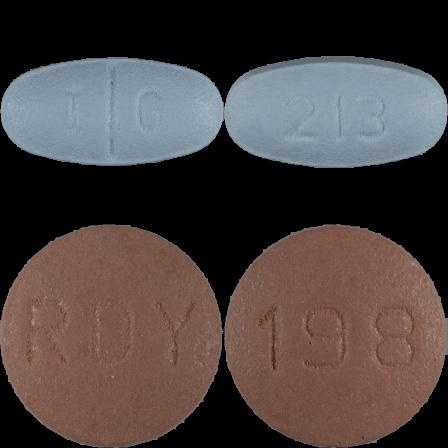76237-240: (0, 0, 224, 224)
